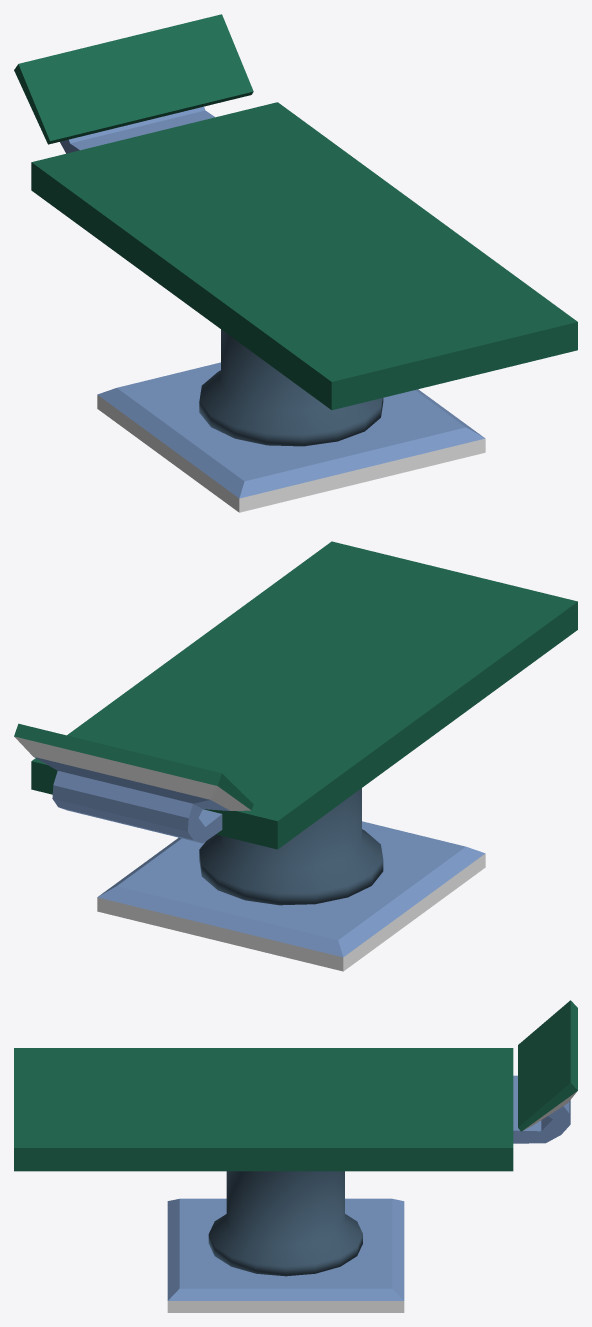
Rendered from HospitlalBed.fbx.
3 renders of one model, top to bottom at view 1: azimuth 30°, elevation 25°; view 2: azimuth 150°, elevation 25°; view 3: azimuth 270°, elevation 25°, orthographic. The views are drawn at different scales.
Visible parts, largest first — view 1: HosBedFrame, HosBedSupport; view 2: HosBedFrame, HosBedSupport; view 3: HosBedFrame, HosBedSupport.
Boxes of the visible parts, x1=… form: HosBedFrame: x1=14, y1=14, x2=577, y2=512; HosBedSupport: x1=199, y1=329, x2=383, y2=446; HosBedFrame: x1=14, y1=541, x2=577, y2=971; HosBedSupport: x1=199, y1=788, x2=383, y2=905; HosBedFrame: x1=14, y1=1000, x2=577, y2=1312; HosBedSupport: x1=208, y1=1171, x2=362, y2=1276.
Size of the model in its own units: 400 by 413 by 954.
